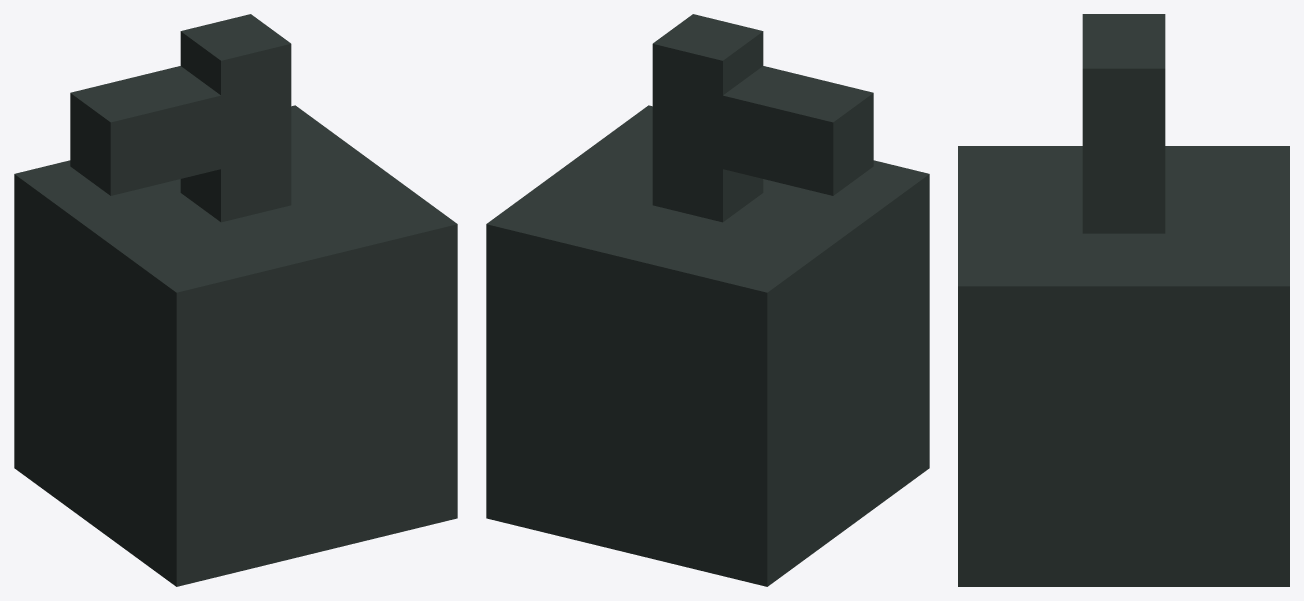
Rendered from missile.obj.
3 views of the same model, side by side, from view 1: azimuth 30°, elevation 25°; view 2: azimuth 150°, elevation 25°; view 3: azimuth 270°, elevation 25° (orthographic). The views are drawn at different scales.
Visible parts, largest first — view 1: Cube; view 2: Cube; view 3: Cube.
Boxes of the visible parts, x1,y1,x2,y2 form: Cube: (14, 14, 457, 586); Cube: (486, 14, 929, 586); Cube: (958, 14, 1289, 586).
Bounding box in the file's own units: 1.63 × 2.48 × 1.6.
Materials: 1 (1 with a texture image).
